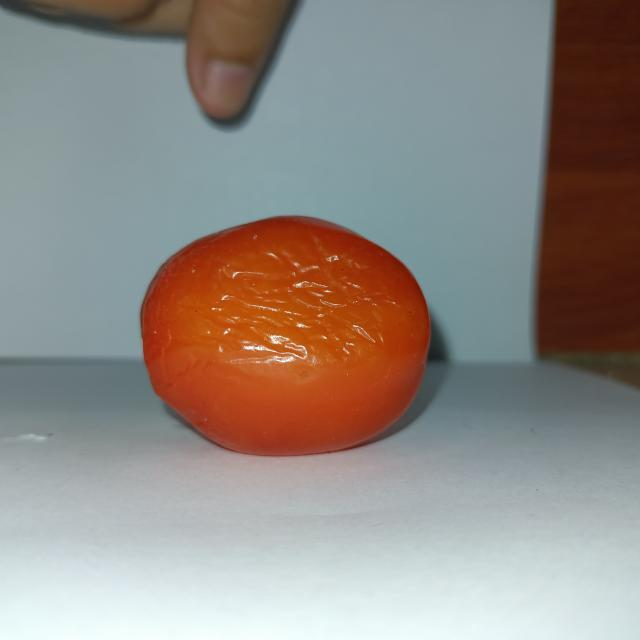Red: (138, 213, 432, 457)
